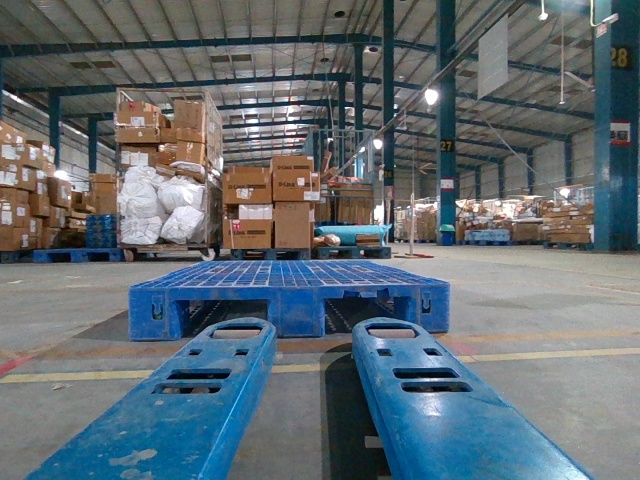block: (126, 289, 189, 339), (264, 286, 323, 338), (409, 284, 450, 335)
front: (128, 283, 449, 338)
hole pallet: (181, 299, 267, 344), (322, 297, 414, 336)
